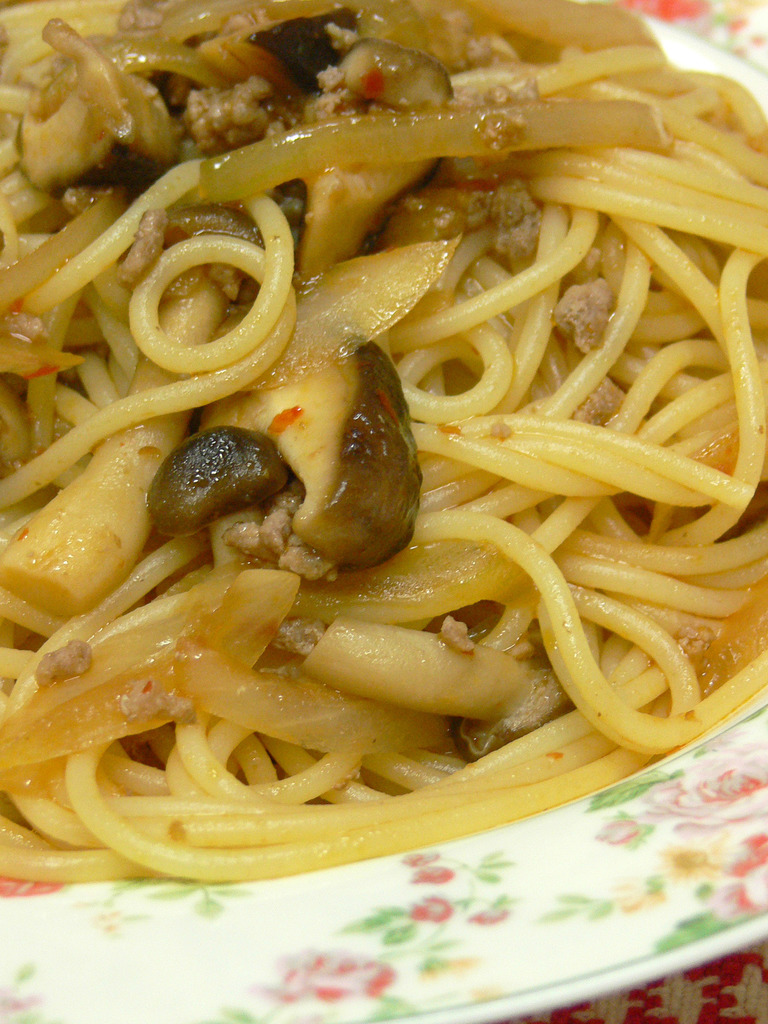pasta: (13, 0, 768, 881)
